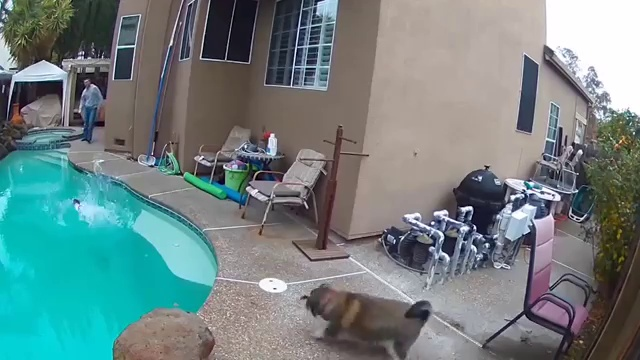face: (84, 79, 90, 86)
